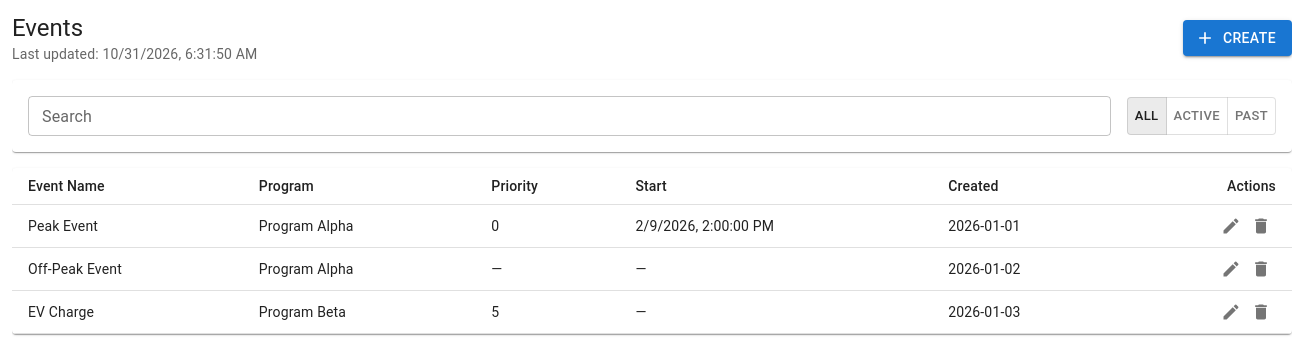
EventsPage › filters events by search query
Type "Peak Event" into the field with test id "events-search" at (569, 116), box x1=28 y1=96 x2=1111 y2=136
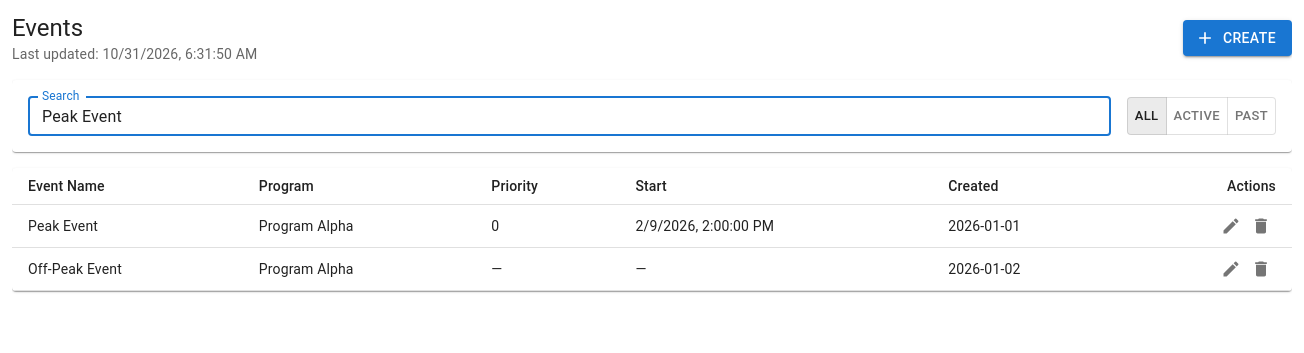
Expected: the row with test id "event-row-e1" is shown, x1=12 y1=204 x2=1292 y2=248
Expected: the row with test id "event-row-e3" is gone
